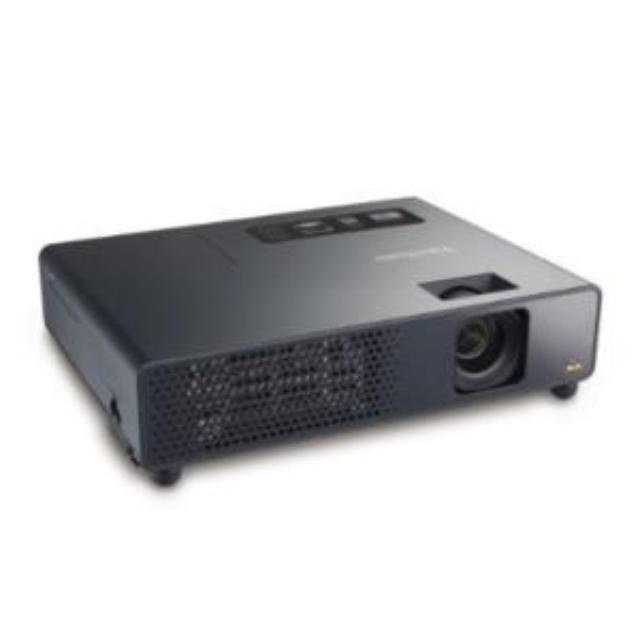Projector: (38, 194, 604, 488)
